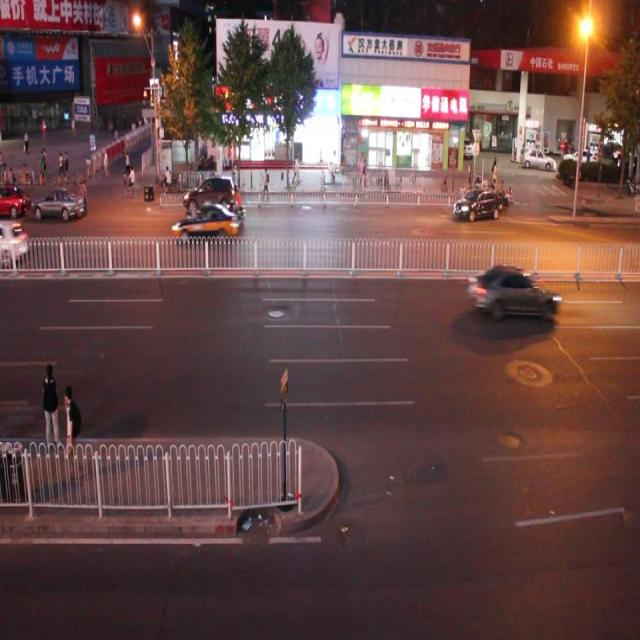car: (469, 261, 558, 323), (170, 203, 240, 246), (180, 174, 234, 218), (29, 186, 83, 228), (452, 185, 505, 223), (1, 215, 30, 265)
